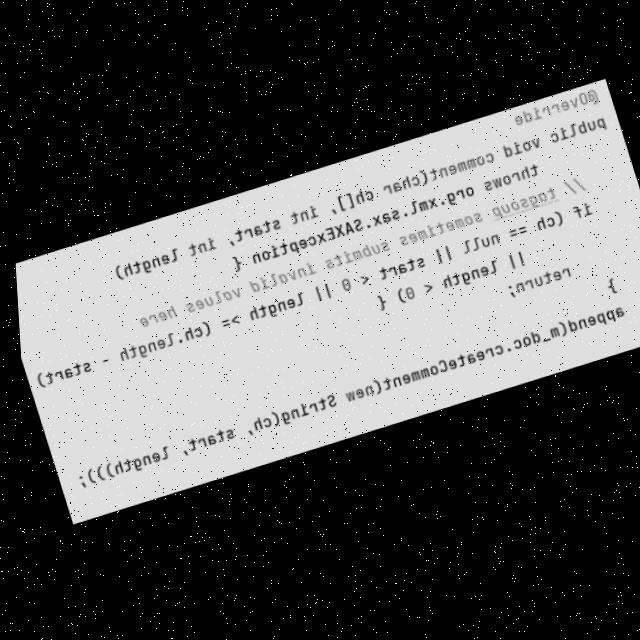code_screen: (16, 79, 640, 522)
